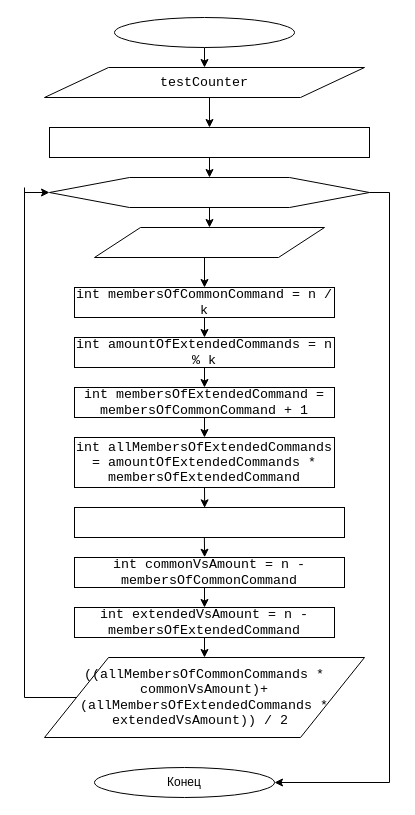
Image size: 415x815. Some labels were removed from this diagram. The box of each missing label's shape, as (x1, y1, x2, y2) in pixels:
int allMembersOfCommonCommands = n - allMembersOfExtendedCommands: (74, 506, 344, 538)
int i:= 0 ... n: (48, 176, 370, 208)
int n, k: (48, 126, 370, 158)
n, k: (94, 226, 324, 258)
Начало: (114, 16, 294, 48)
